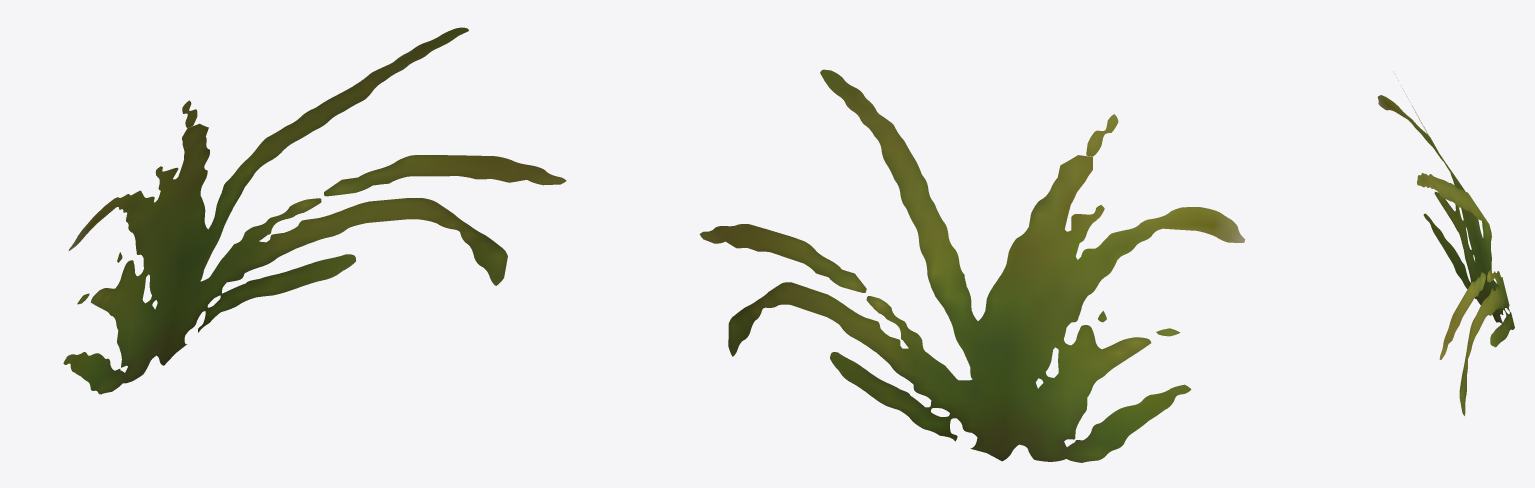
The model's file is liemo_plant_04 (5).fbx.
3 views of the same model, side by side, from view 1: azimuth 30°, elevation 25°; view 2: azimuth 150°, elevation 25°; view 3: azimuth 270°, elevation 25° (orthographic). The views are drawn at different scales.
Parts seen in each view (by area): view 1: liemo_plant_04 (5); view 2: liemo_plant_04 (5); view 3: liemo_plant_04 (5).
Part boxes in pixels (<box>): liemo_plant_04 (5): <box>63,27,566,394</box>; liemo_plant_04 (5): <box>699,69,1245,462</box>; liemo_plant_04 (5): <box>1377,71,1514,415</box>.
Bounding box in the file's own units: 0.279 × 0.1604 × 0.1077.
